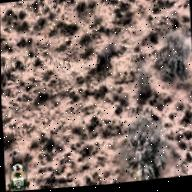boar: (93, 34, 127, 69)
